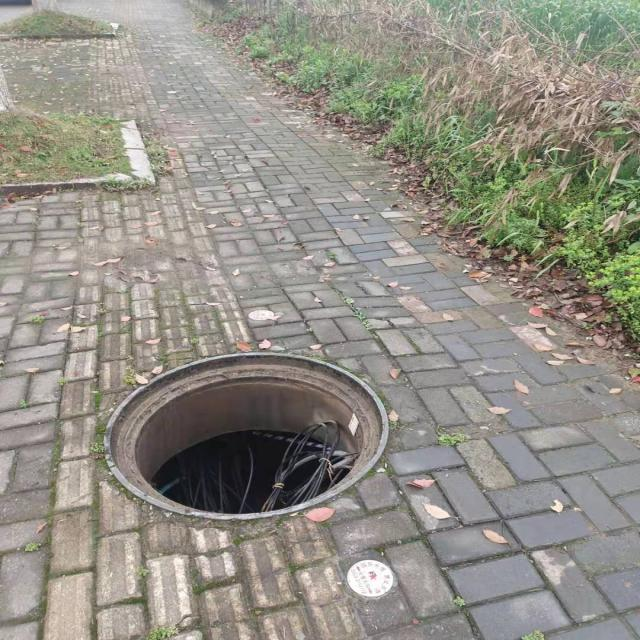Uncovered: (104, 350, 388, 520)
